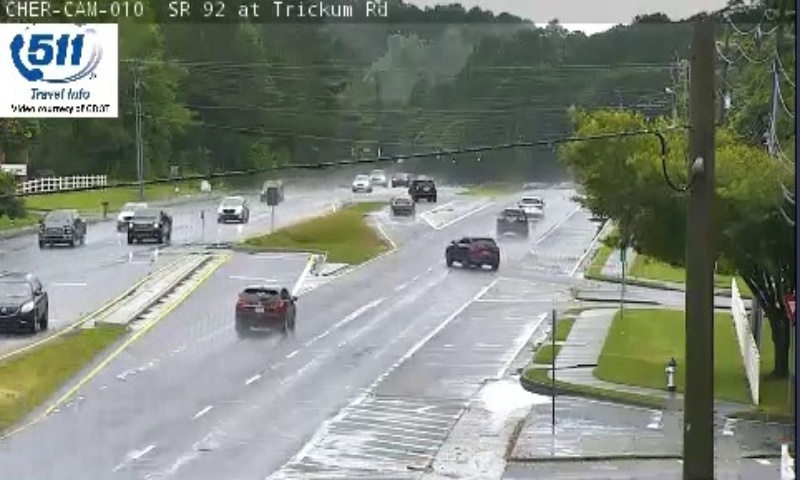car: (235, 286, 295, 332), (497, 208, 527, 237), (517, 196, 545, 220)
